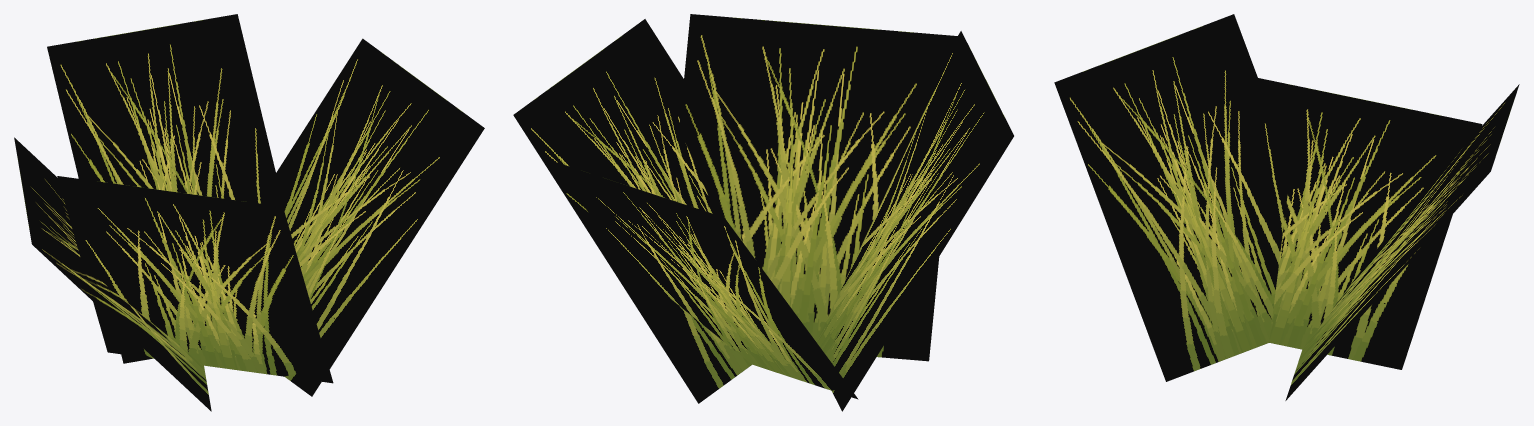
The model's file is grass_a.glb.
The picture shows the model from 3 angles, left to right: view 1: azimuth 30°, elevation 25°; view 2: azimuth 150°, elevation 25°; view 3: azimuth 270°, elevation 25°; orthographic projection. The views are drawn at different scales.
Visible parts, largest first — view 1: grass_a; view 2: grass_a; view 3: grass_a.
Part boxes in pixels (x1=…): grass_a: x1=14, y1=14, x2=484, y2=411; grass_a: x1=513, y1=14, x2=1013, y2=411; grass_a: x1=1054, y1=14, x2=1519, y2=400.
Bounding box in the file's own units: 0.7222 × 0.4141 × 0.7067.
Materials: 1 (1 with a texture image).
